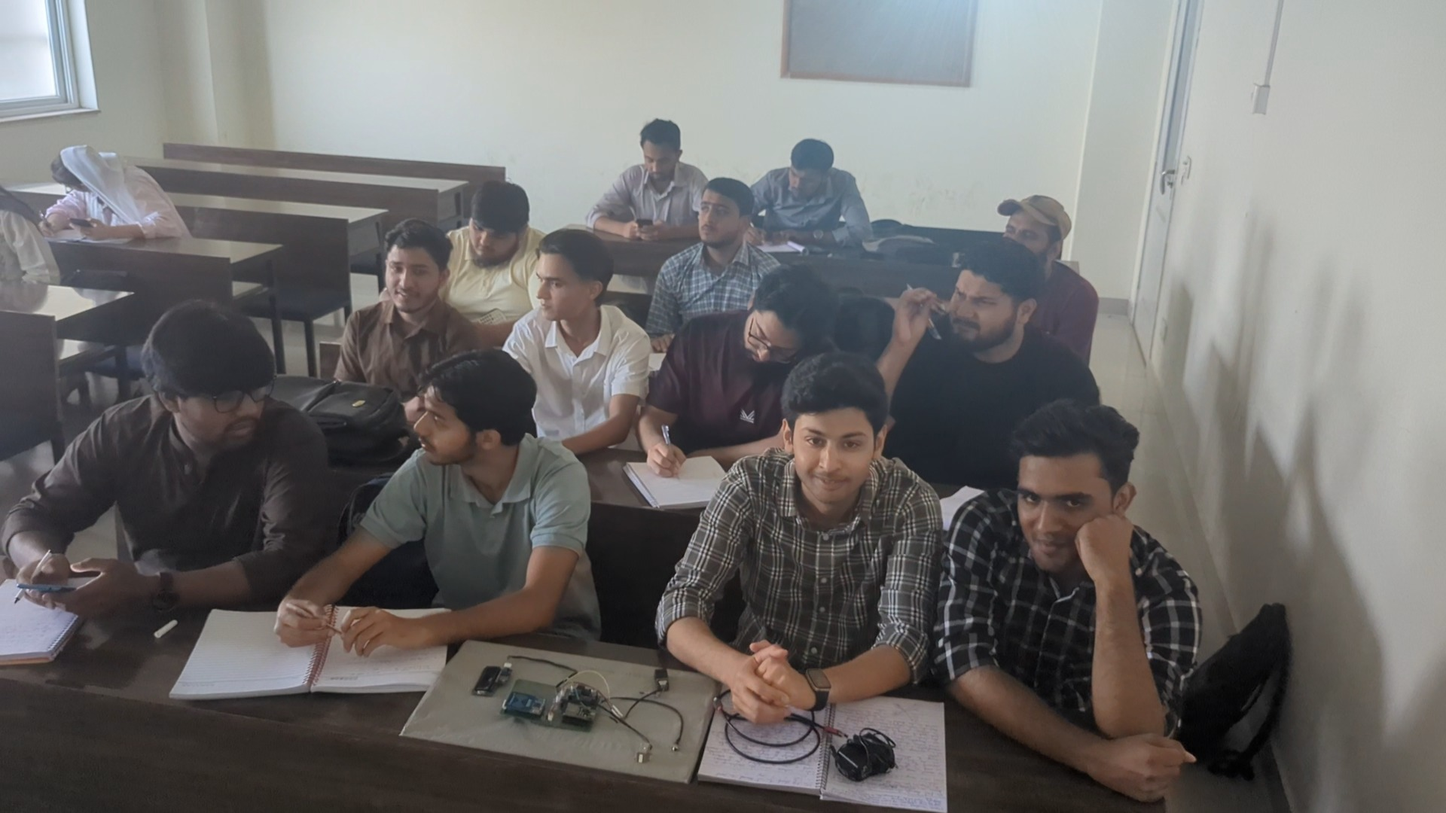look_forward: (1023, 378, 1206, 688), (753, 366, 928, 623), (353, 206, 482, 360), (934, 245, 1062, 378), (690, 176, 795, 298), (515, 217, 610, 350), (991, 177, 1116, 277)
read: (454, 168, 552, 341)
turn_head: (68, 289, 315, 550), (395, 355, 606, 584), (30, 116, 210, 237)
using_device: (592, 96, 706, 244)
write: (639, 258, 792, 504), (752, 132, 899, 265)
